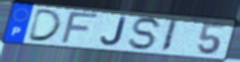5: (196, 21, 227, 56)
D: (25, 8, 63, 43)
F: (59, 12, 102, 45)
I: (159, 18, 180, 53)
J: (99, 16, 128, 47)
S: (127, 16, 165, 52)
